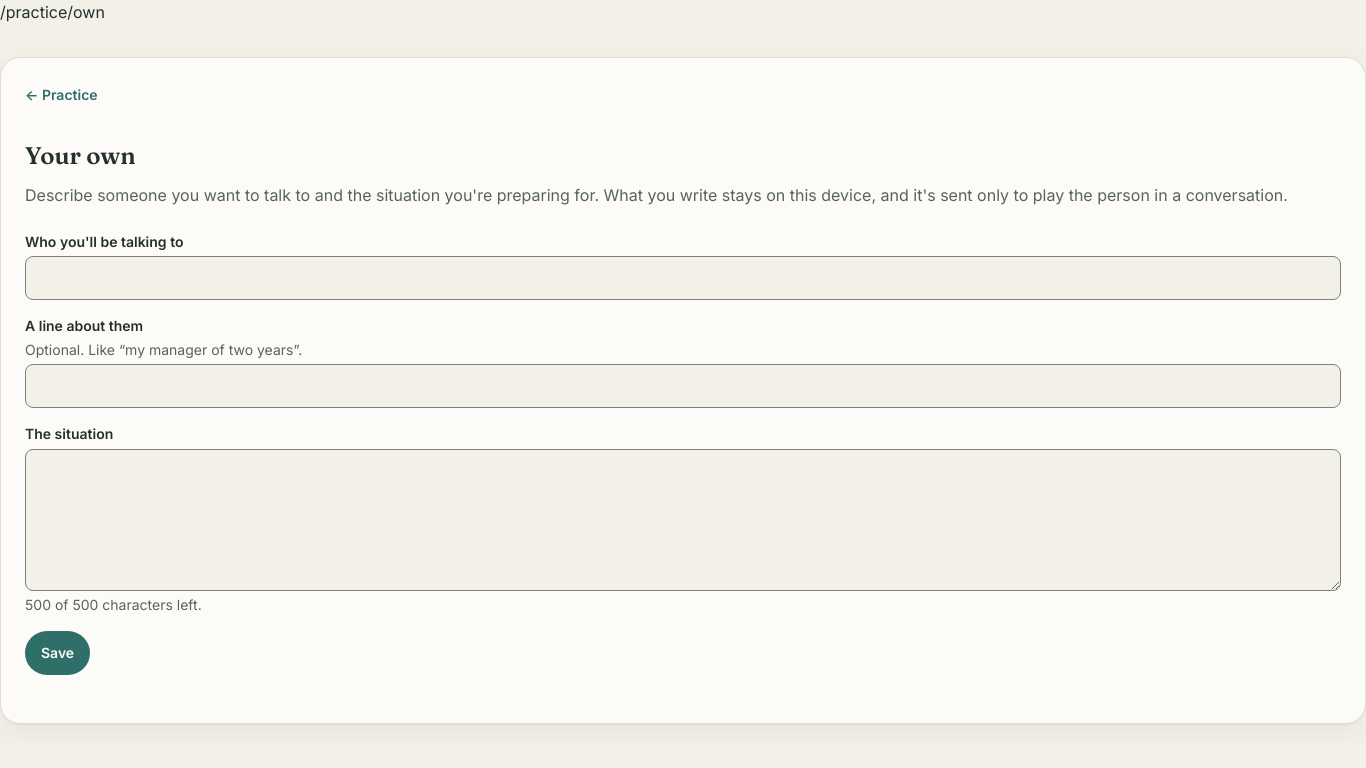
Scenario: OwnScenarioBriefScreen (issue #67) › with nothing saved yet › takes the line about them as optional
Type "Sam" into the field labelled "Who you'll be talking to" at (683, 278), box [25,256,1341,300]
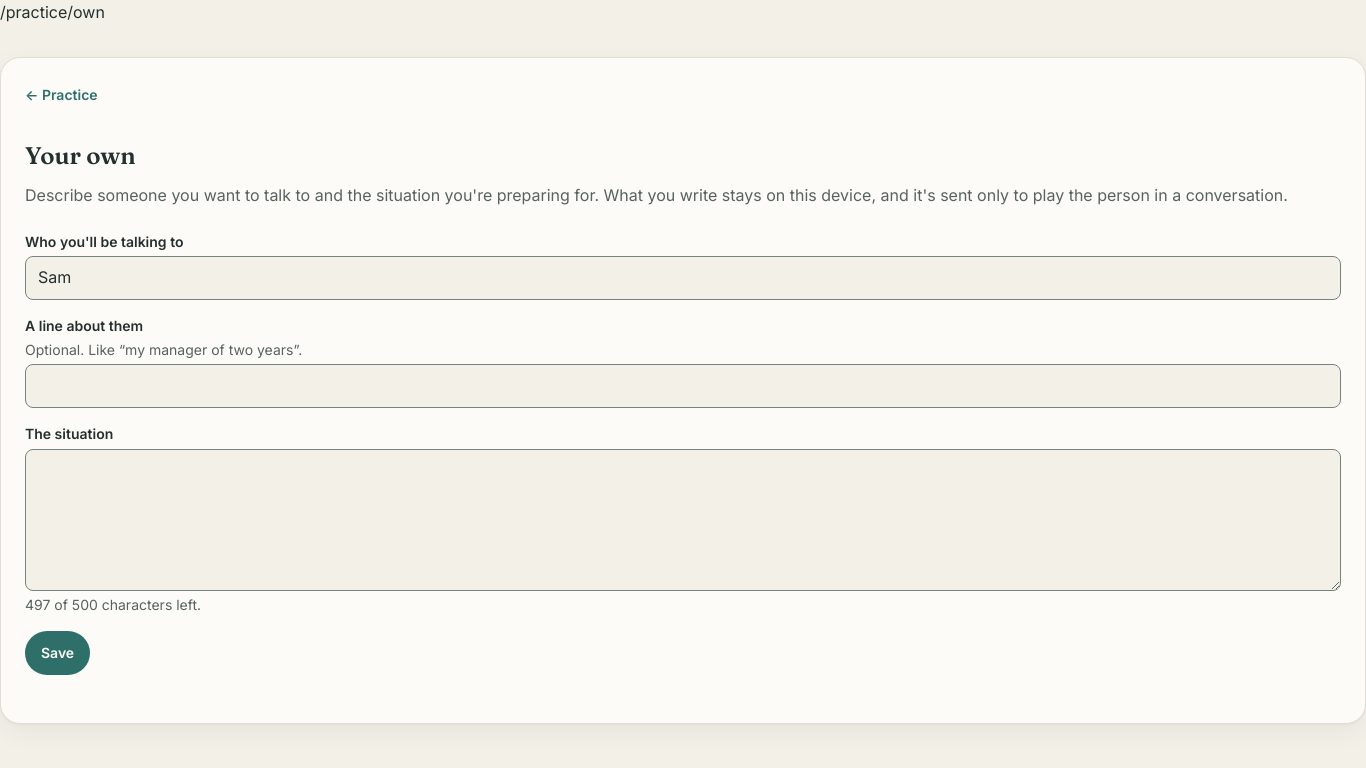
Type "Telling my roommate I'm moving out." into the text box labelled "The situation" at (683, 520), box [25,449,1341,591]
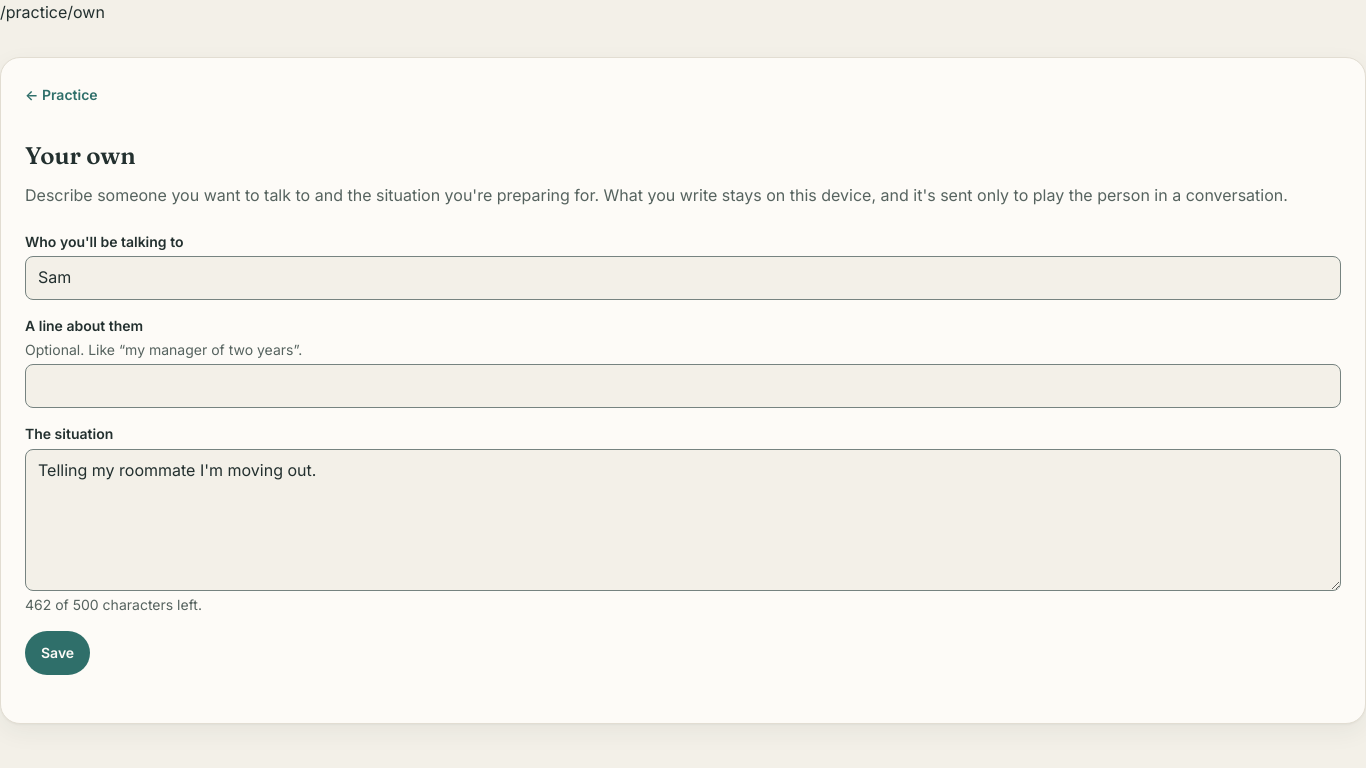
Click the button "Save" at (58, 653), box [25,631,90,675]
(page scrolled)
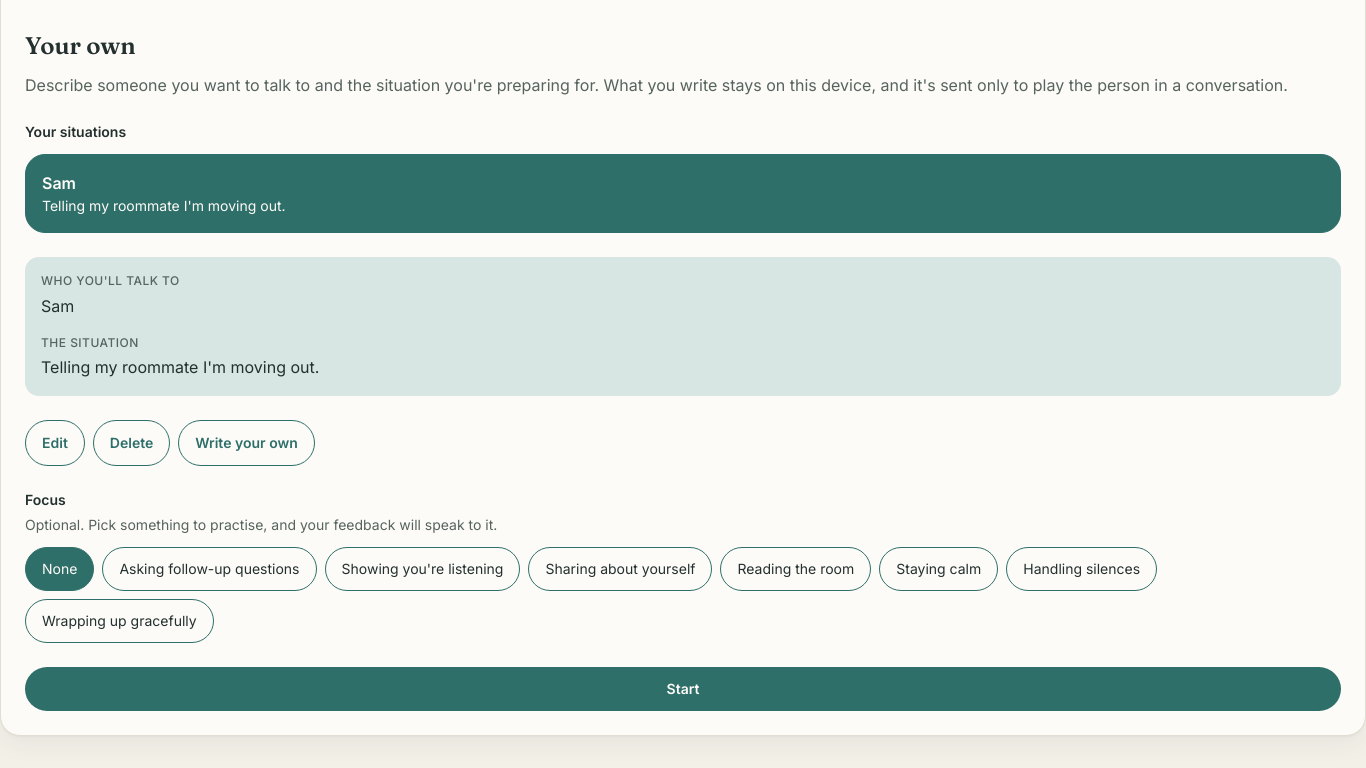
Expected: the button "Start" is shown, [25,667,1341,711]
